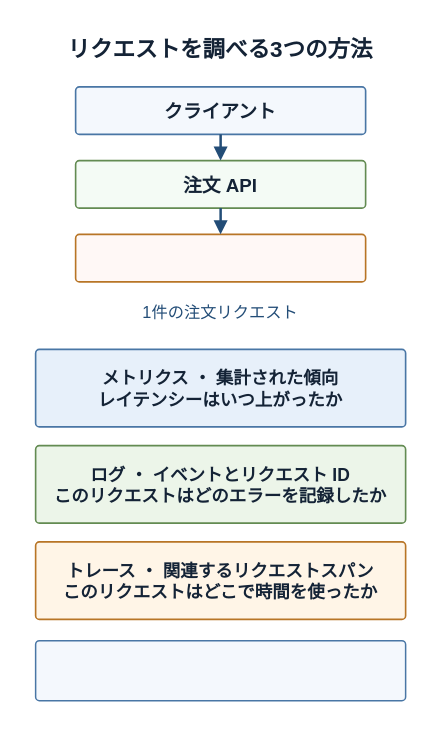
Image size: 441x741. Some labels were removed from this diagram. The centre of each missing label's shape, as x and y in pixels:
"メトリクスで変化を見つける。 リクエスト ID でログとトレースを結び付ける。" goes at (220,670).
"注文データベース" goes at (220,257).
